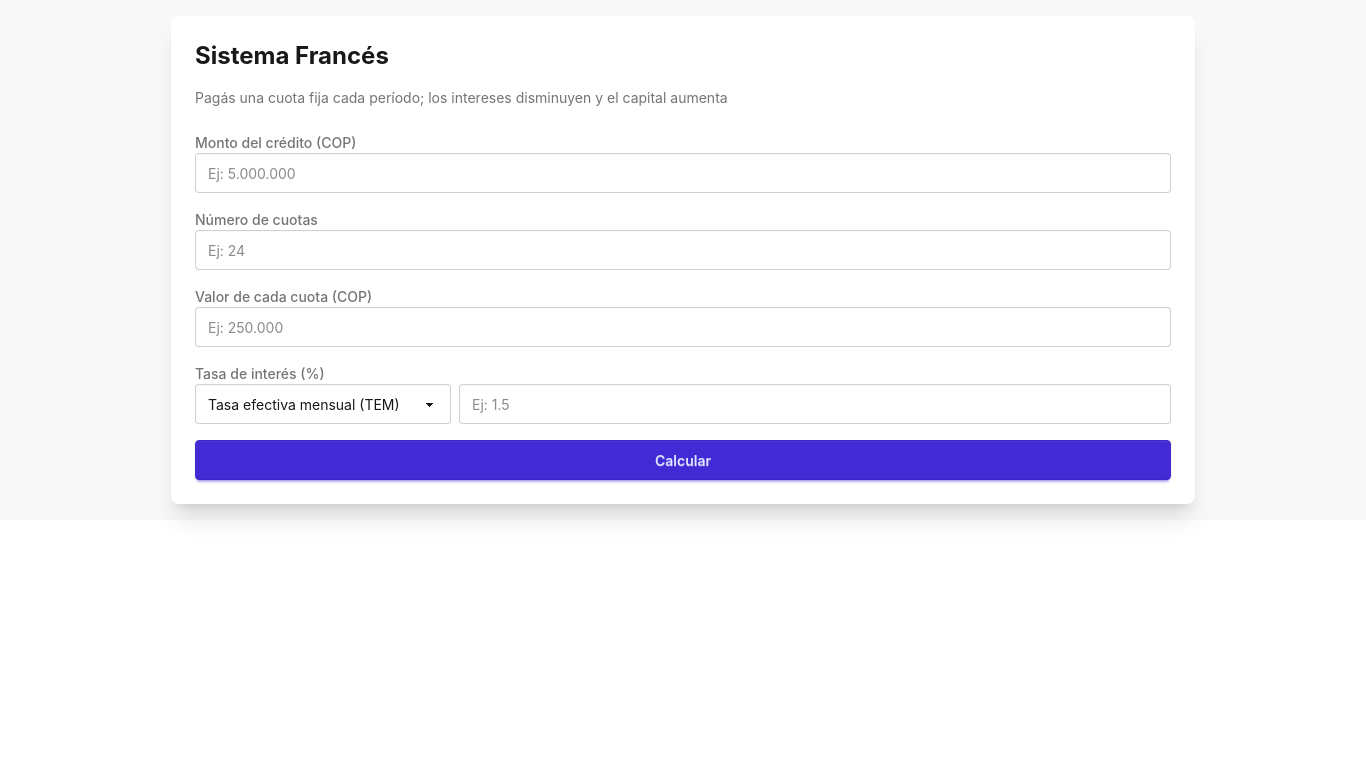
Test: CreditCalculator › rate type toggle › clears results when the rate type changes
Type "1200000" into the field with placeholder "Ej: 5.000.000" at [683, 173], box [195,153,1171,193]
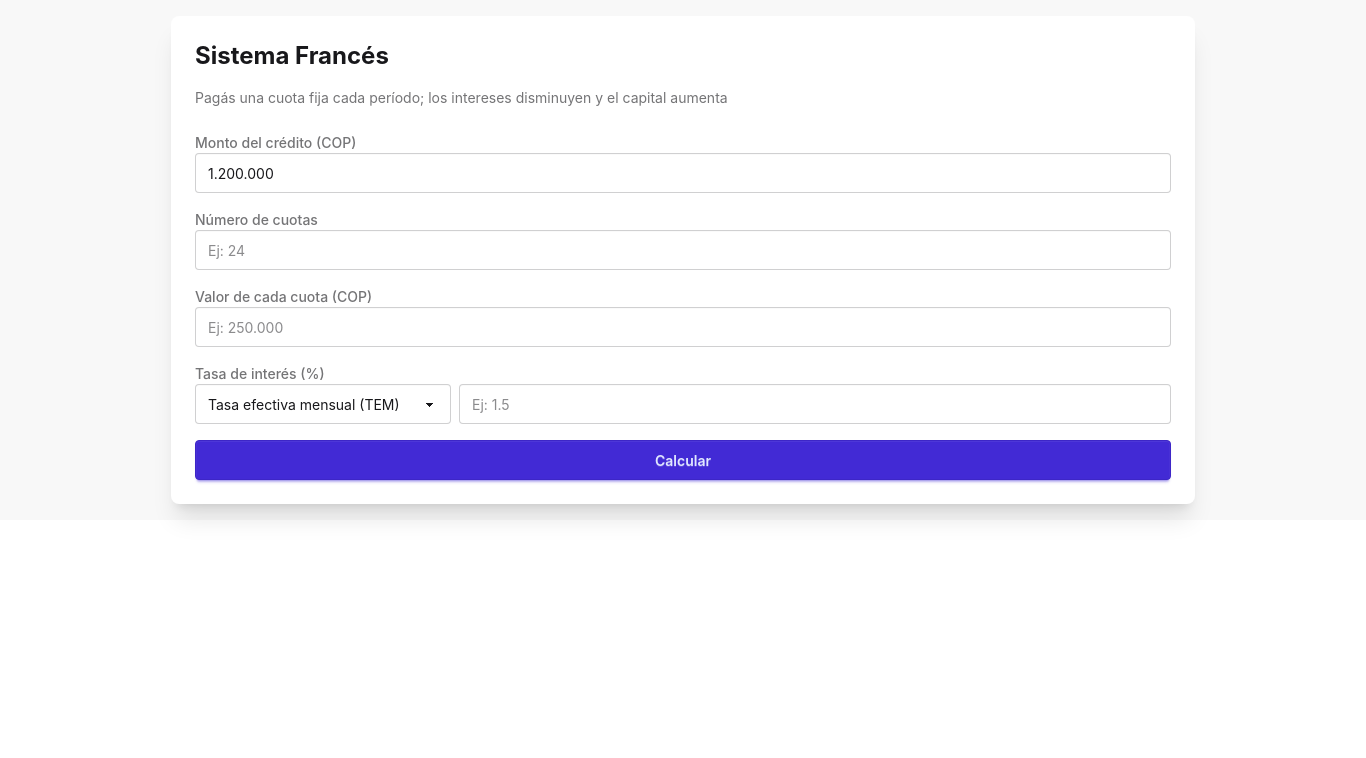
Type "12" into the number field with placeholder "Ej: 24" at [683, 250], box [195,230,1171,270]
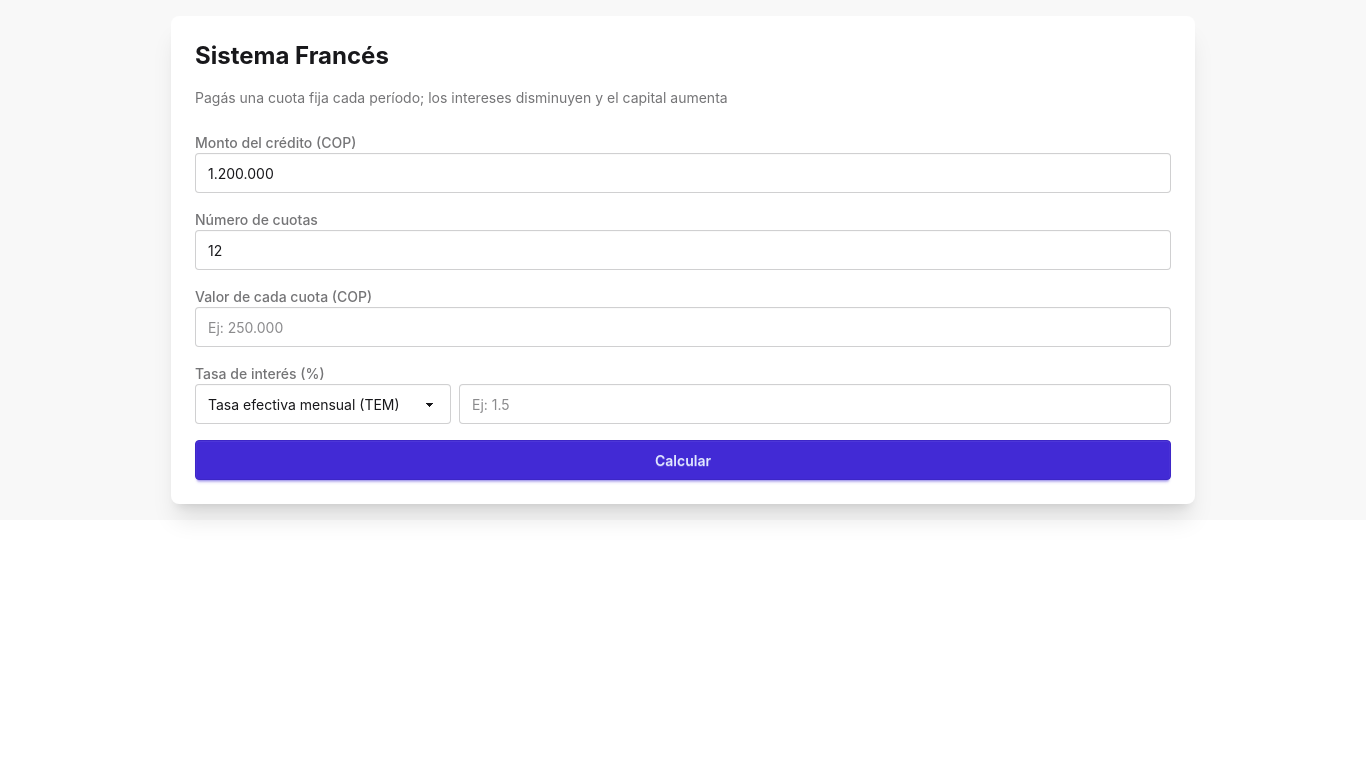
Type "0" into the number field with test id "rate-input" at [815, 404], box [459,384,1171,424]
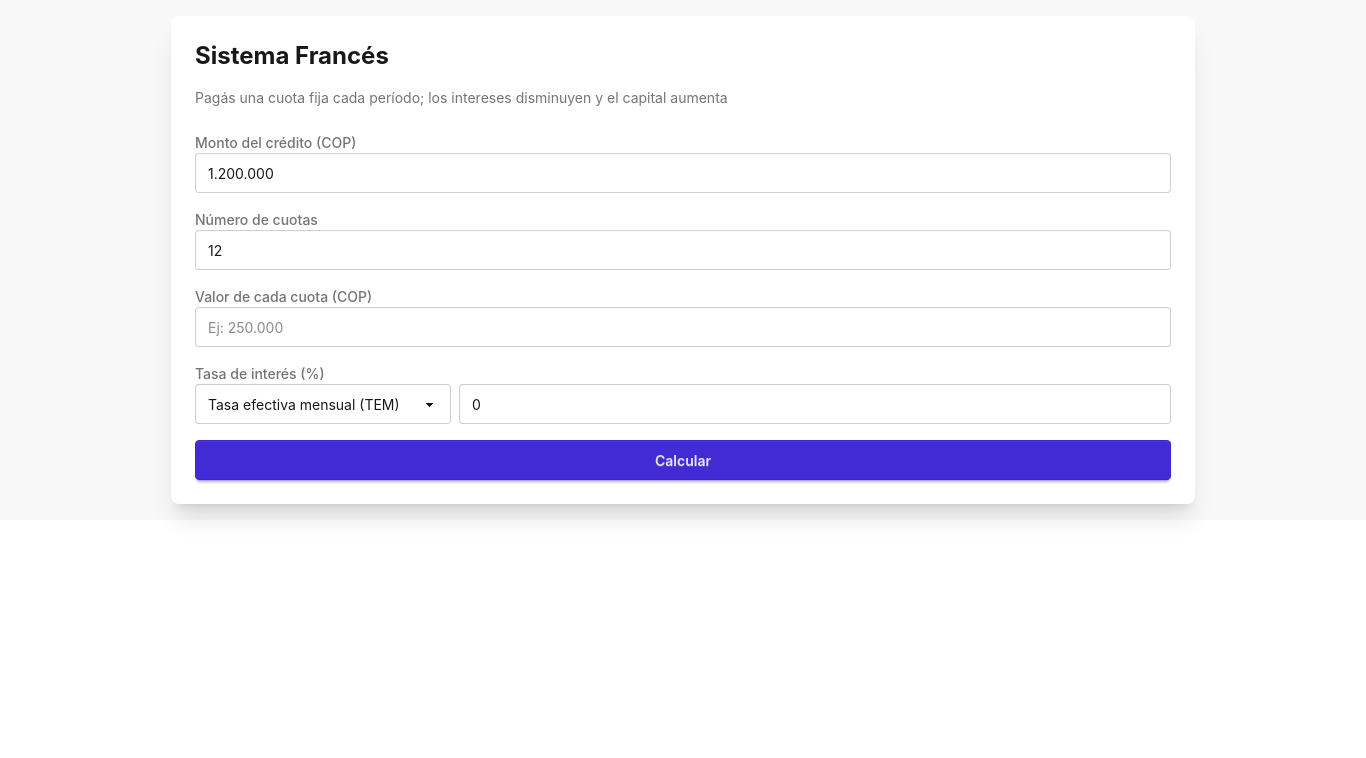
Click the button with test id "calculate-btn" at [683, 460], box [195,440,1171,480]
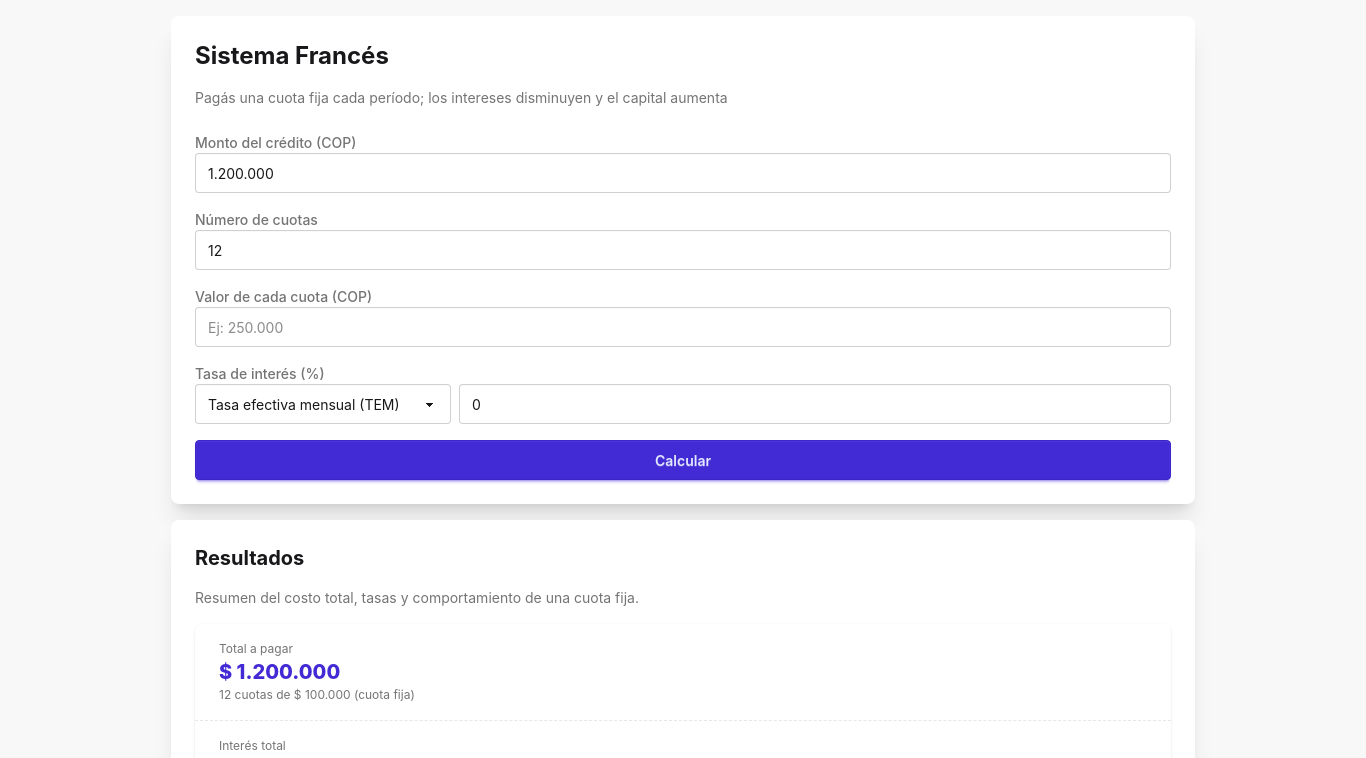
Expected: the text "Resultados" is shown, [195,546,304,570]
Select "Tasa efectiva anual (TEA)" in the dropdown with test id "rate-type-select" at [323, 404], box [195,384,451,424]
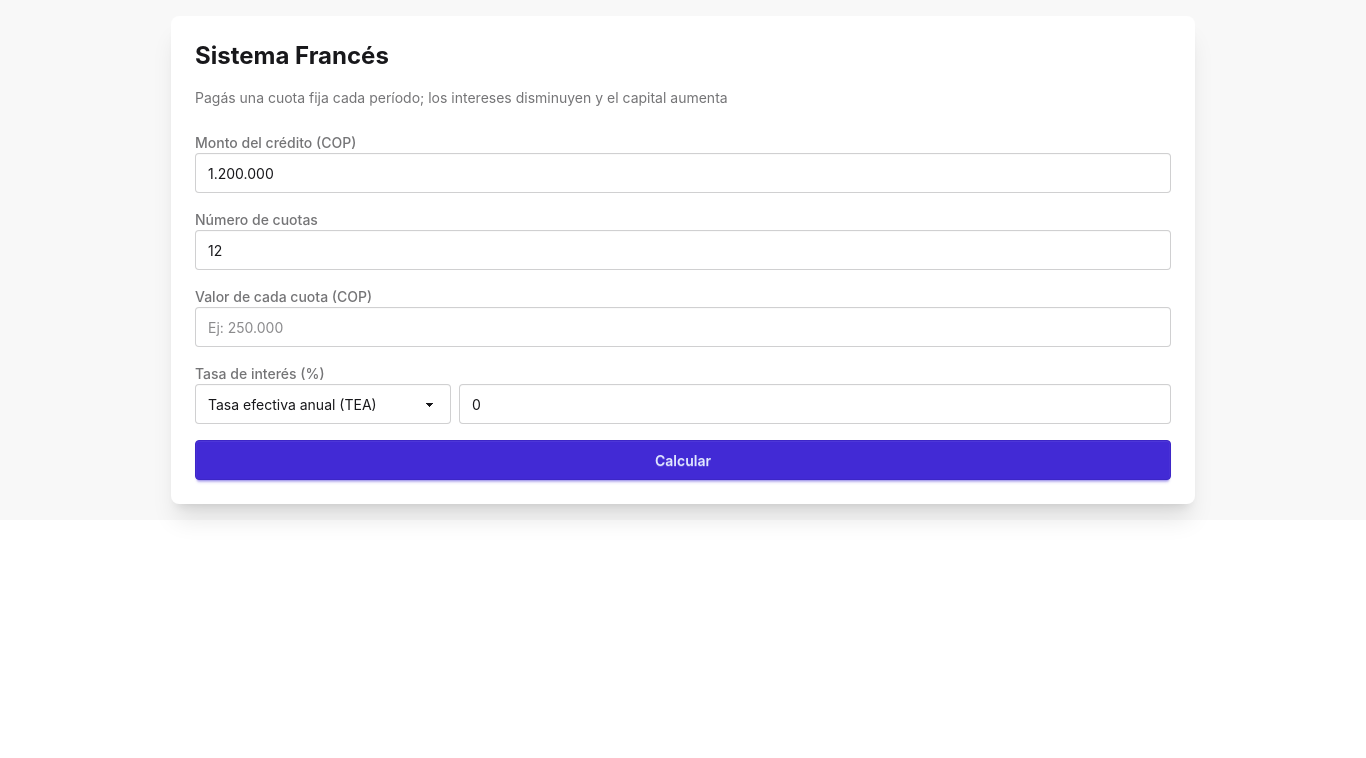
Expected: the text "Resultados" is gone
